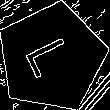L_NE: (22, 32, 81, 83)
